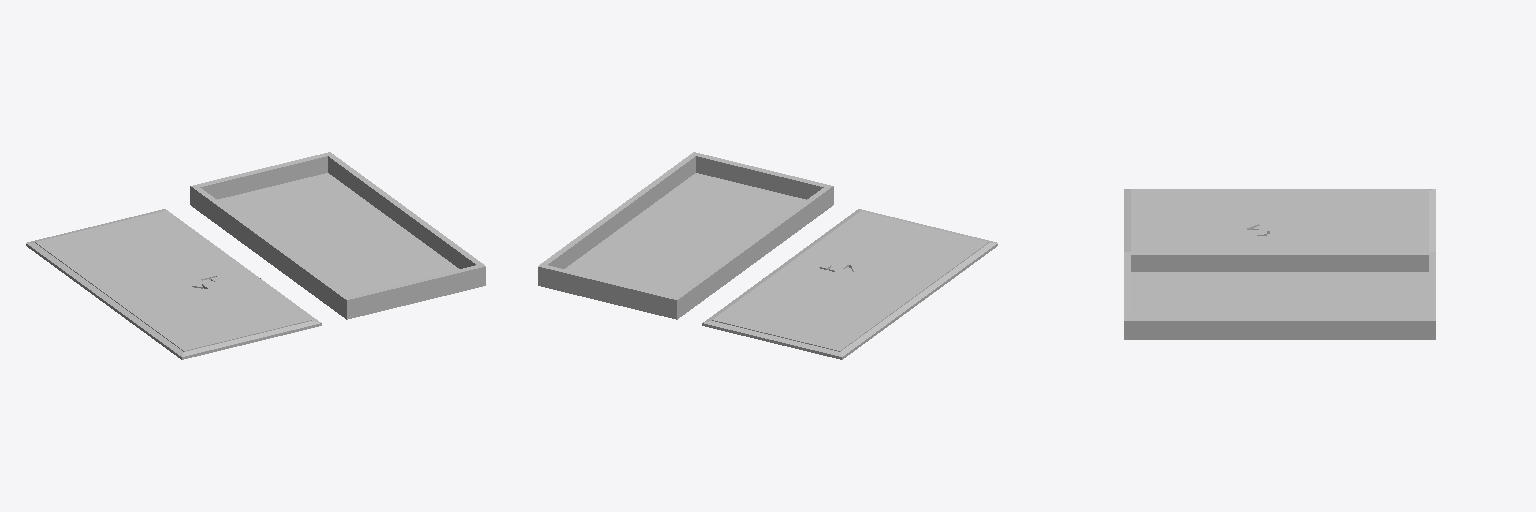
The model's file is case.obj.
The picture shows the model from 3 angles: view 1: azimuth 30°, elevation 25°; view 2: azimuth 150°, elevation 25°; view 3: azimuth 270°, elevation 25°; orthographic projection.
Parts seen in each view (by area): view 1: Cube, Cube.001; view 2: Cube, Cube.001; view 3: Cube, Cube.001.
Boxes of the visible parts, box(x1,y1,x2,y2) form: Cube: box(190, 152, 485, 319); Cube.001: box(26, 209, 321, 359); Cube: box(538, 152, 833, 319); Cube.001: box(702, 209, 997, 359); Cube: box(1124, 252, 1435, 339); Cube.001: box(1124, 189, 1435, 251).
Bounding box in the file's own units: 34.05 × 2.08 × 30.26.